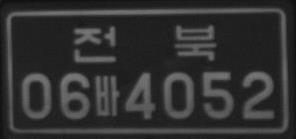0: (162, 70, 195, 119), (20, 71, 52, 121)
2: (241, 70, 275, 120)
4: (124, 71, 155, 120)
5: (202, 70, 234, 120)
6: (58, 71, 89, 120)
바: (93, 74, 120, 117)
전북_D: (72, 24, 216, 63)
